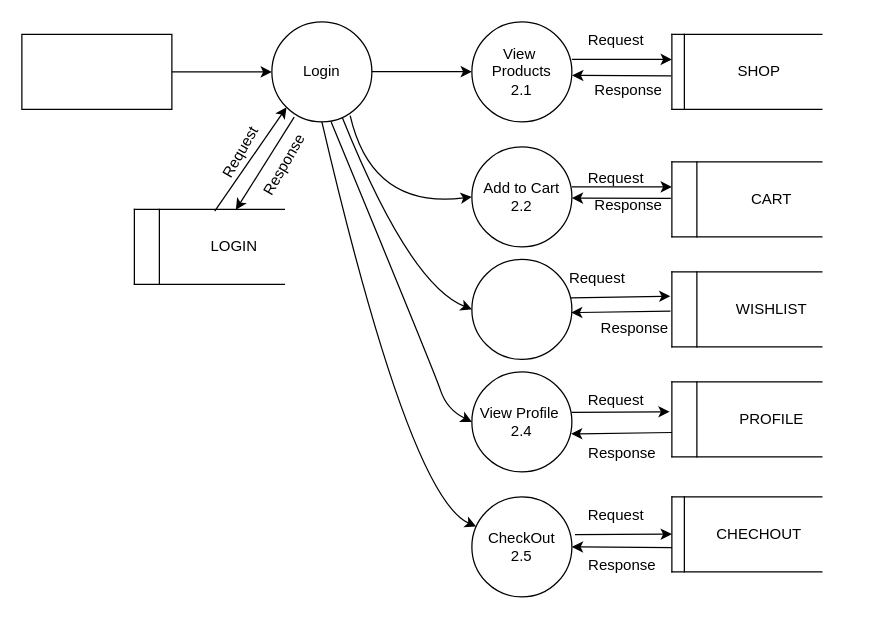
Some shapes in this 869 by 619 pixel diagram are drawn without their labels. Each missing label, with the box of its shape:
Add to Wishlist 2.3: (471, 258, 572, 359)
User: (21, 33, 172, 109)
